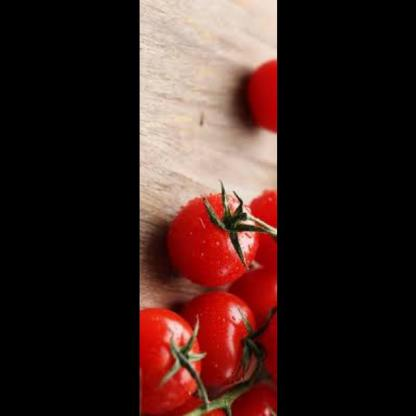tomato: (162, 190, 262, 290), (174, 291, 264, 393), (140, 307, 202, 409), (242, 274, 278, 368), (243, 184, 277, 280), (242, 54, 278, 140), (231, 378, 278, 416), (181, 386, 240, 416)
